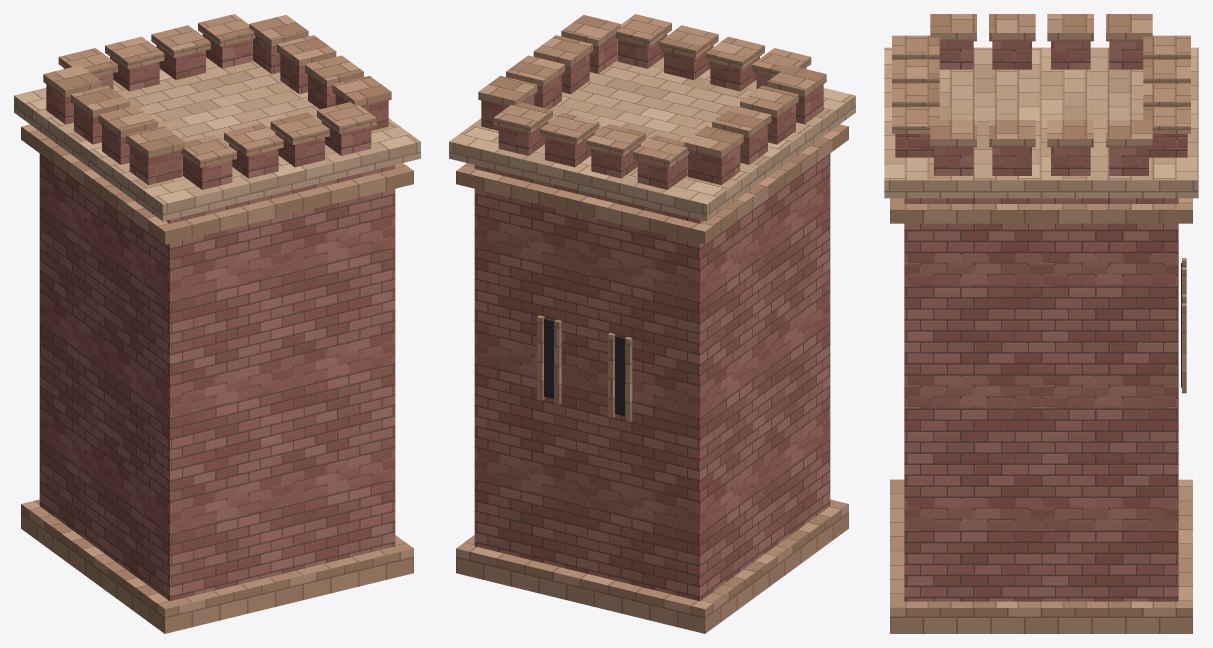
Rendered from Tower_Square.obj.
3 views of the same model, side by side, from view 1: azimuth 30°, elevation 25°; view 2: azimuth 150°, elevation 25°; view 3: azimuth 270°, elevation 25° (orthographic). The views are drawn at different scales.
Visible parts, largest first — view 1: Brick_Rose, Stone_Sand, Stone_Light; view 2: Brick_Rose, Stone_Sand, Stone_Light, Iron_Black; view 3: Brick_Rose, Stone_Sand, Stone_Light.
Part boxes in pixels (x1,y1,x2,y2): Brick_Rose: (39,34,395,601); Stone_Sand: (21,14,413,633); Stone_Light: (14,39,420,221); Brick_Rose: (474,34,830,601); Stone_Sand: (456,14,848,633); Stone_Light: (449,39,855,221); Iron_Black: (544,318,624,416); Brick_Rose: (895,41,1187,601); Stone_Sand: (890,14,1192,633); Stone_Light: (884,47,1198,198).
Size of the model in its own units: 3.49 by 6.05 by 3.49.
4 materials, 4 textured.
